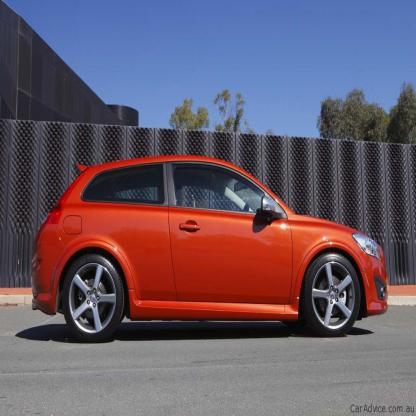Vehicle: (32, 161, 390, 343)
